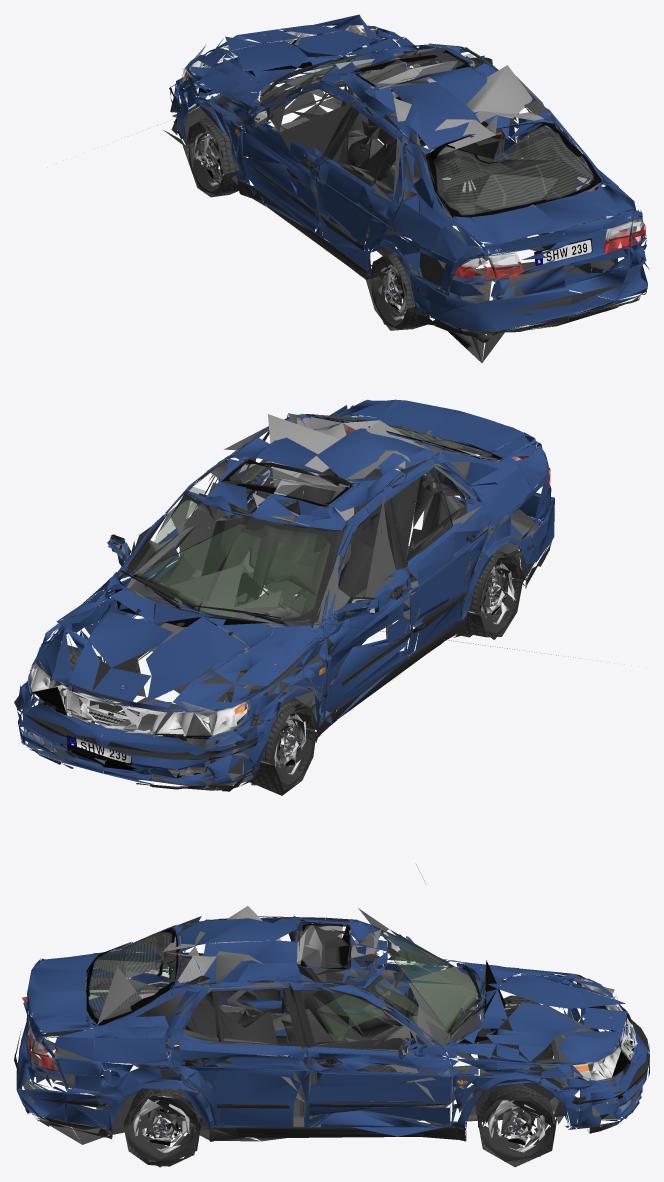
The model's file is sedan_4db0bc_lod1.glb.
The picture shows the model from 3 angles, top to bottom: view 1: azimuth 30°, elevation 25°; view 2: azimuth 150°, elevation 25°; view 3: azimuth 270°, elevation 25°; orthographic projection. The views are drawn at different scales.
Visible parts, largest first — view 1: body, wheel_fl, wheel_rl; view 2: body, wheel_fl, wheel_rl, wheel_fr; view 3: body, wheel_fr, wheel_rr.
Boxes of the visible parts, x1=… form: body: x1=163, y1=14, x2=649, y2=362; wheel_fl: x1=183, y1=111, x2=246, y2=197; wheel_rl: x1=366, y1=249, x2=429, y2=330; body: x1=14, y1=399, x2=580, y2=791; wheel_fl: x1=248, y1=691, x2=320, y2=795; wheel_rl: x1=456, y1=550, x2=525, y2=639; wheel_fr: x1=38, y1=644, x2=104, y2=723; body: x1=14, y1=864, x2=649, y2=1144; wheel_fr: x1=477, y1=1083, x2=556, y2=1167; wheel_rr: x1=123, y1=1089, x2=201, y2=1167.
Size of the model in its own units: 4.05 by 1.58 by 4.79.
Materials: 19 (11 with a texture image).
